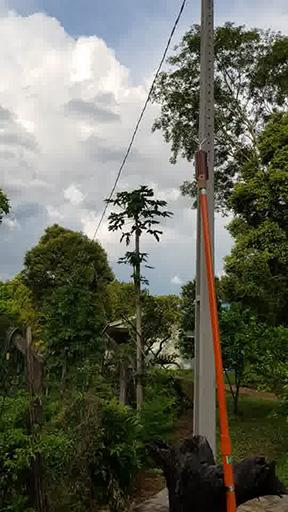Detector_Tensao_Contato: (193, 138, 209, 181)
Vara_Manobra: (195, 181, 237, 512)
